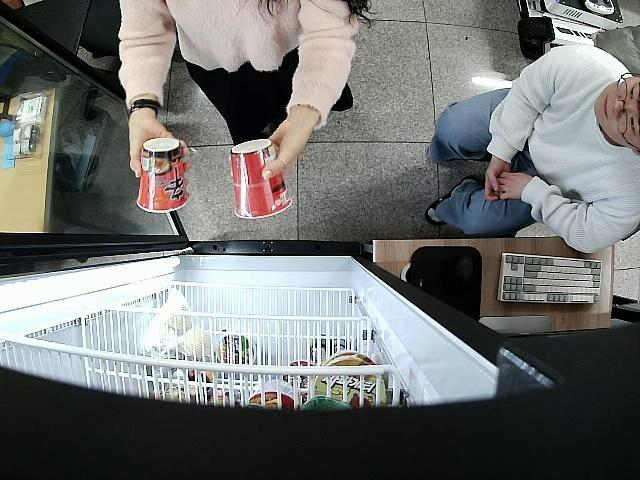02_shinRamen_S: (232, 138, 292, 220), (135, 138, 190, 213)
